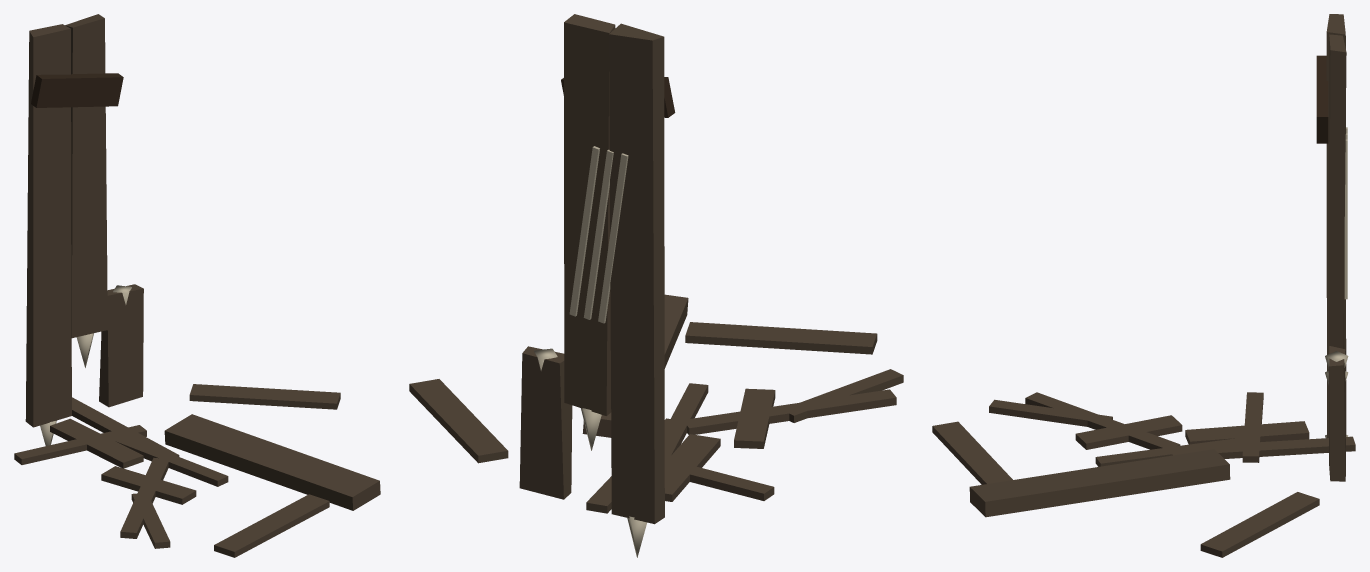
File: cottage_door_broken.glb
3 views of the same model, side by side, from view 1: azimuth 30°, elevation 25°; view 2: azimuth 150°, elevation 25°; view 3: azimuth 270°, elevation 25° (orthographic). The views are drawn at different scales.
Visible parts, largest first — view 1: cottage_door_broken; view 2: cottage_door_broken; view 3: cottage_door_broken.
Boxes of the visible parts, left/top/right/bottom form: cottage_door_broken: left=14, top=14, right=380, bottom=557; cottage_door_broken: left=409, top=14, right=903, bottom=557; cottage_door_broken: left=932, top=14, right=1355, bottom=557.
Bounding box in the file's own units: 1.59 × 2.11 × 1.79.
